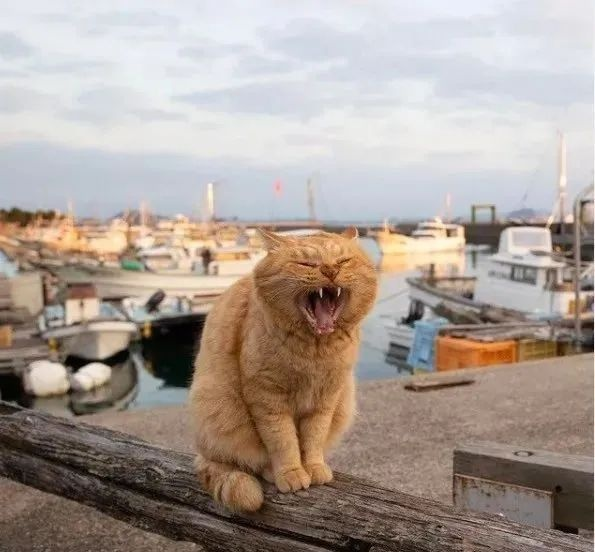cat: (185, 225, 379, 516)
